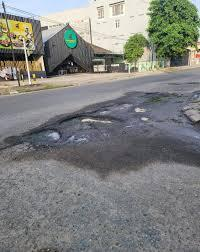Pothole: (0, 128, 93, 157), (57, 108, 129, 144), (169, 92, 200, 140), (124, 93, 160, 134)
